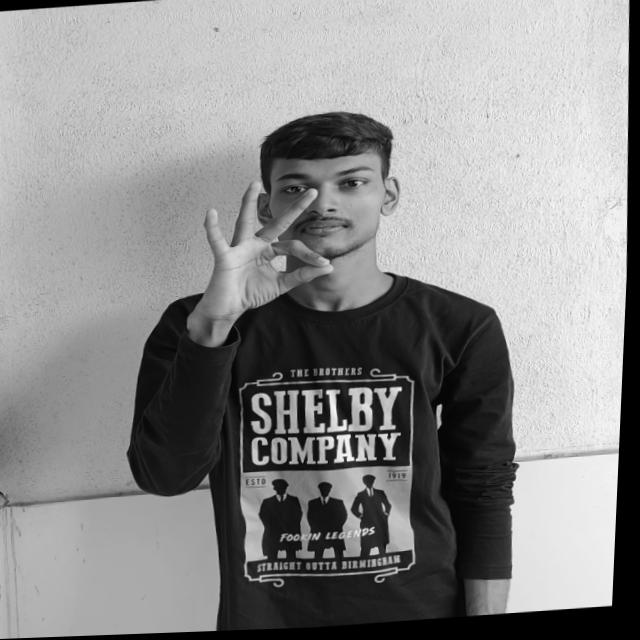Superb: (194, 172, 340, 317)
